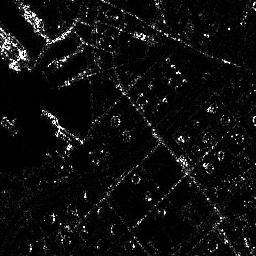ship: (16, 1, 45, 31)
